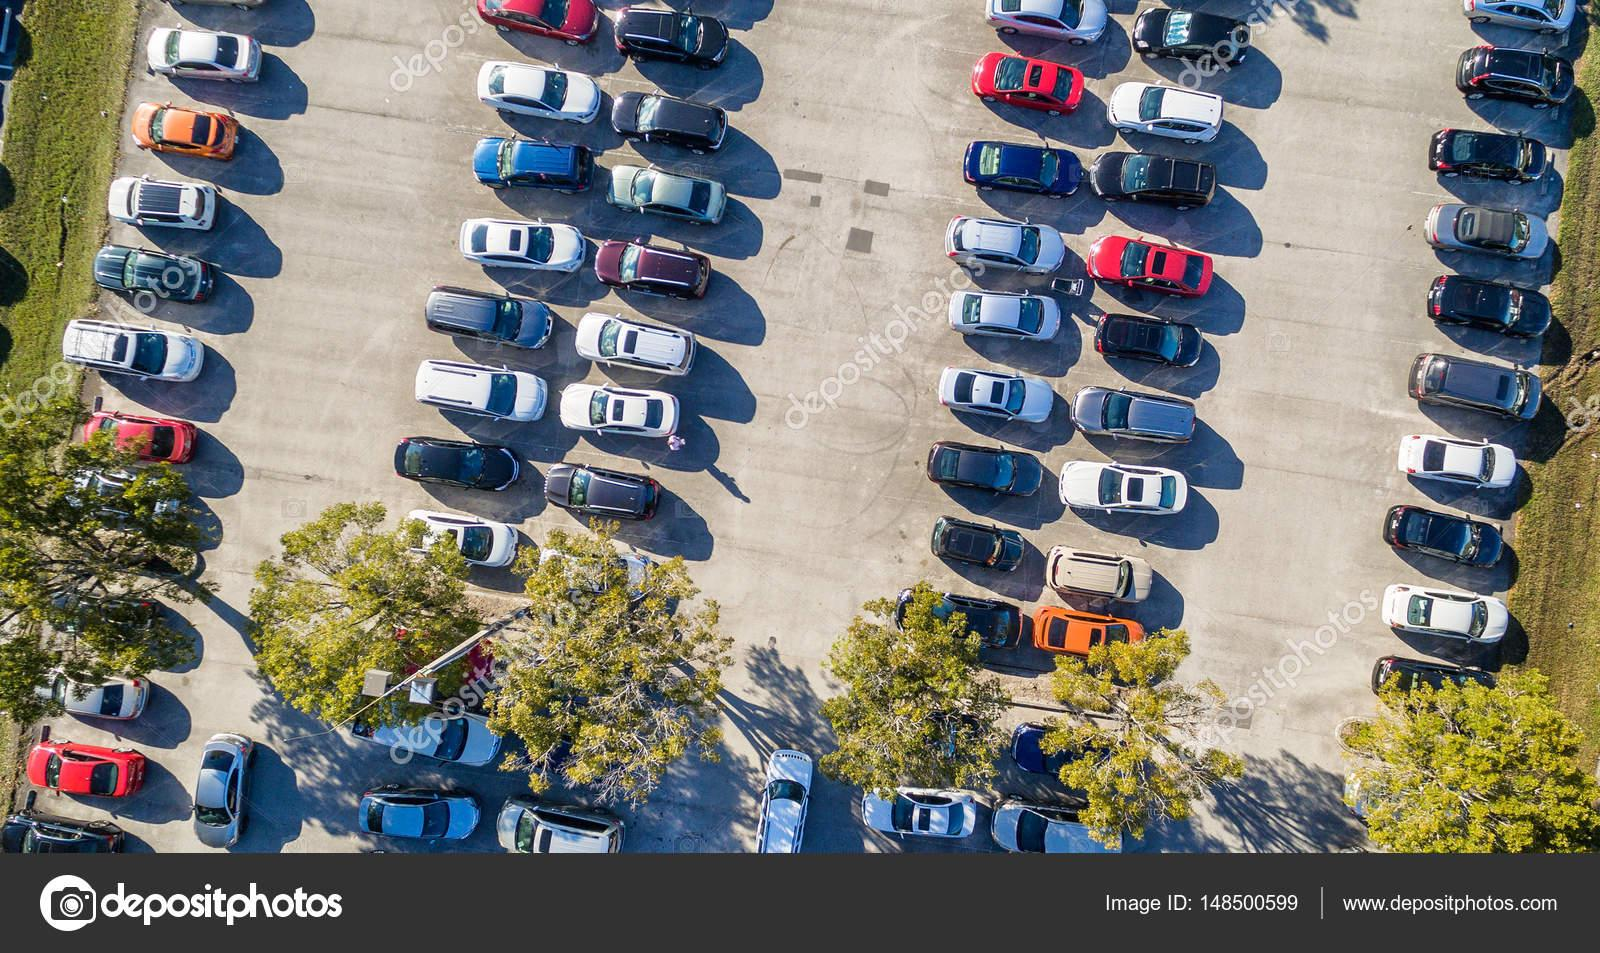car: (49, 305, 206, 387), (867, 571, 1019, 647), (450, 201, 589, 282), (138, 17, 274, 98), (407, 348, 549, 425), (417, 276, 559, 352), (467, 48, 608, 123), (121, 81, 249, 162), (18, 655, 156, 728), (1050, 452, 1191, 523), (1081, 227, 1217, 301), (95, 238, 242, 306), (1036, 531, 1170, 605), (957, 127, 1087, 202), (399, 432, 540, 500), (24, 728, 144, 806), (1095, 77, 1233, 144), (183, 733, 261, 849), (408, 505, 536, 574), (1027, 602, 1159, 669), (572, 307, 697, 377), (493, 787, 623, 854), (463, 129, 587, 199), (1072, 380, 1194, 449), (611, 3, 747, 65), (946, 206, 1068, 275), (917, 430, 1045, 495), (599, 160, 729, 224), (1086, 309, 1213, 373), (1134, 6, 1259, 71), (611, 81, 729, 150), (69, 400, 197, 464), (1092, 149, 1224, 210), (560, 377, 680, 444), (357, 782, 483, 843), (565, 465, 684, 530), (992, 796, 1123, 854), (99, 172, 223, 233), (591, 237, 716, 297), (942, 361, 1061, 423), (949, 279, 1063, 341), (860, 781, 977, 840), (966, 53, 1082, 112), (923, 508, 1028, 573), (757, 742, 807, 851), (1383, 582, 1457, 640), (1382, 501, 1451, 558), (1397, 424, 1453, 481), (1409, 347, 1450, 400)
tree: (454, 537, 739, 794), (0, 396, 208, 705), (229, 507, 479, 760), (811, 612, 1009, 791), (1047, 638, 1239, 809)
